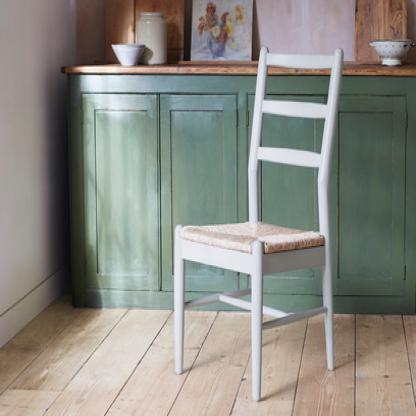chair: (159, 42, 362, 411)
